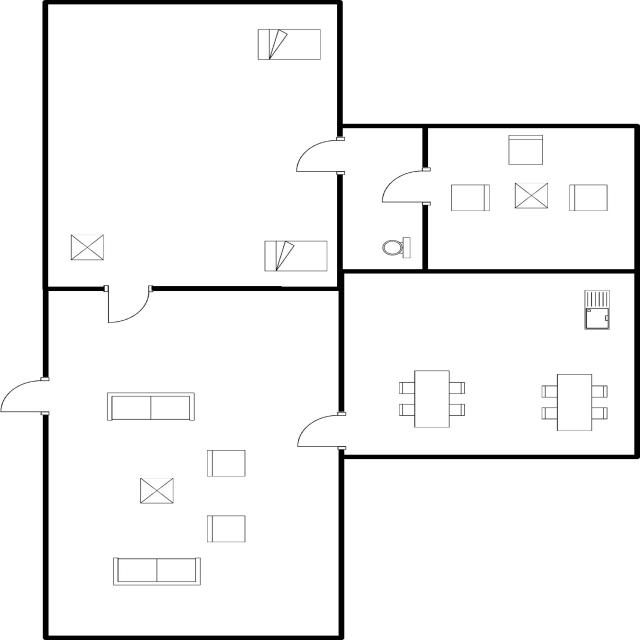bed: (253, 25, 324, 64), (258, 237, 330, 275)
coffee_table: (135, 474, 179, 510), (507, 179, 552, 214), (67, 229, 108, 264)
dining_table: (537, 368, 613, 436), (393, 366, 468, 431)
large_sink: (376, 233, 416, 262)
large_sofa: (98, 389, 198, 425), (107, 554, 206, 590)
sink: (578, 284, 615, 334)
small_sofa: (501, 130, 548, 170), (200, 445, 250, 479), (447, 179, 495, 214), (562, 181, 611, 215), (202, 511, 249, 546)
